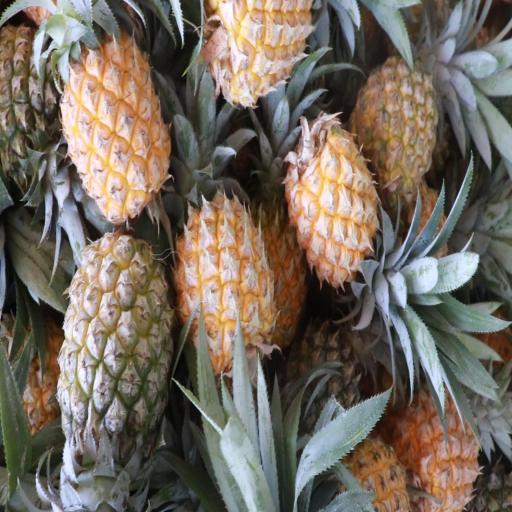------------------------------: (59, 238, 170, 458), (354, 60, 437, 195)
Pineapple - v8 v1: (64, 39, 168, 224), (178, 196, 272, 372), (289, 118, 378, 282), (402, 373, 487, 512), (209, 0, 311, 102)
